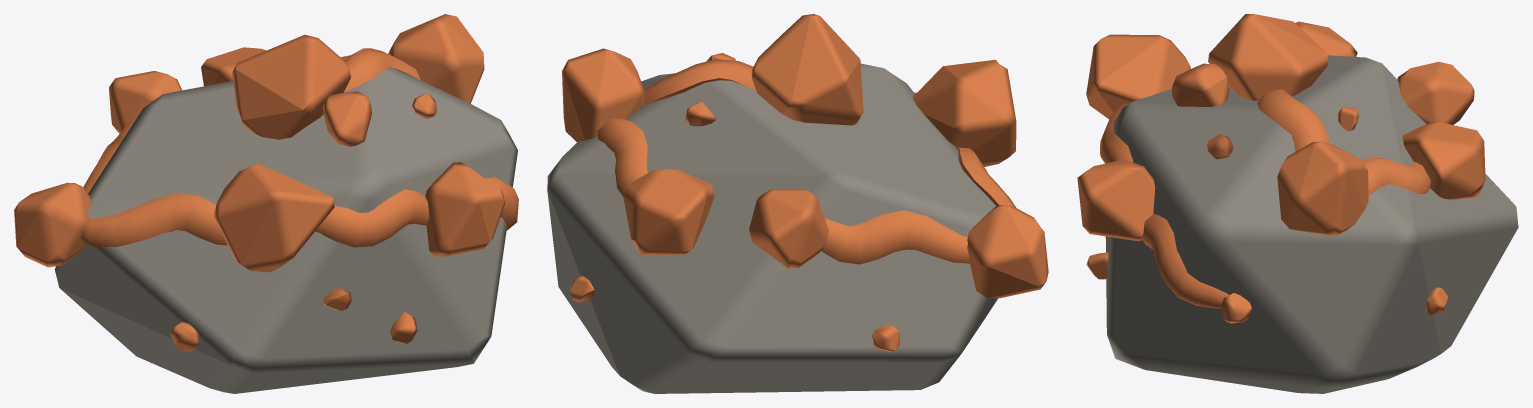
The model's file is item_copper_ore.glb.
3 renders of one model, left to right at view 1: azimuth 30°, elevation 25°; view 2: azimuth 150°, elevation 25°; view 3: azimuth 270°, elevation 25°, orthographic. The views are drawn at different scales.
Parts seen in each view (by area): view 1: CopperOre; view 2: CopperOre; view 3: CopperOre.
Boxes of the visible parts, x1,y1,x2,y2 form: CopperOre: (14, 14, 518, 393); CopperOre: (547, 14, 1048, 393); CopperOre: (1077, 14, 1518, 393).
Size of the model in its own units: 0.2994 by 0.1928 by 0.2505.
